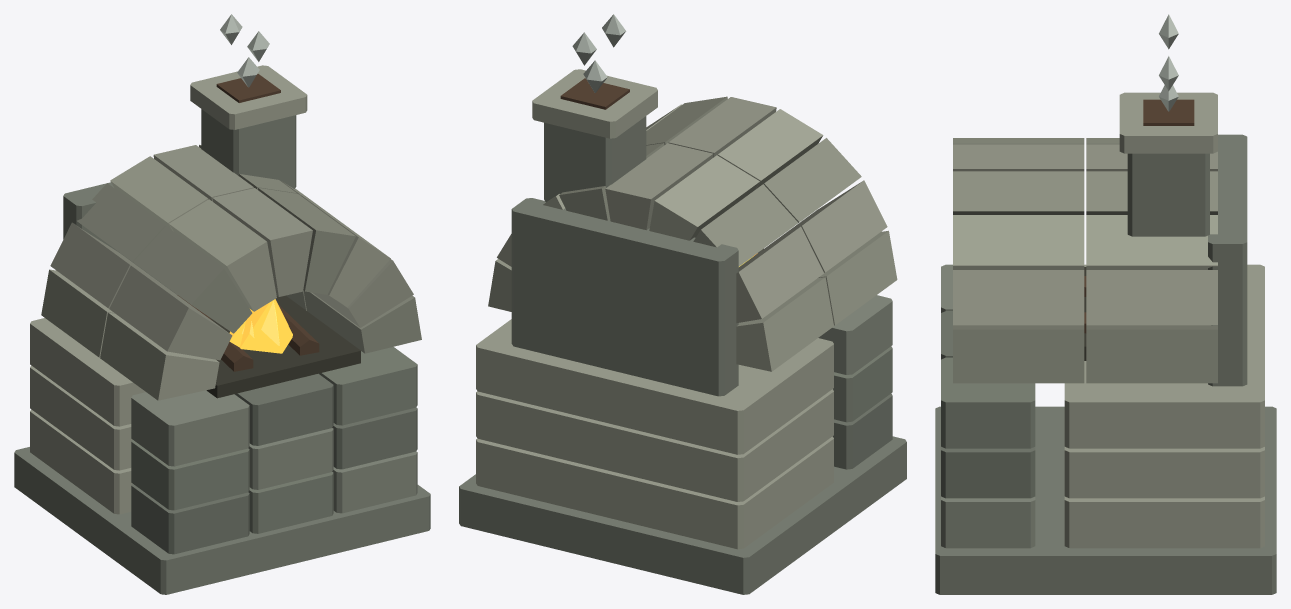
The model's file is bake_oven.glb.
3 renders of one model, left to right at view 1: azimuth 30°, elevation 25°; view 2: azimuth 150°, elevation 25°; view 3: azimuth 270°, elevation 25°, orthographic. The views are drawn at different scales.
Visible parts, largest first — view 1: geometry, hearth, steam; view 2: geometry, steam; view 3: geometry, steam.
Part boxes in pixels (left/top/right/bottom): geometry: left=14, top=65, right=430, bottom=594; hearth: left=229, top=299, right=292, bottom=353; steam: left=220, top=14, right=269, bottom=87; geometry: left=459, top=69, right=906, bottom=594; steam: left=572, top=14, right=625, bottom=92; geometry: left=935, top=92, right=1276, bottom=594; steam: left=1159, top=14, right=1178, bottom=111.
Bounding box in the file's own units: 0.9 × 1.48 × 0.87.
